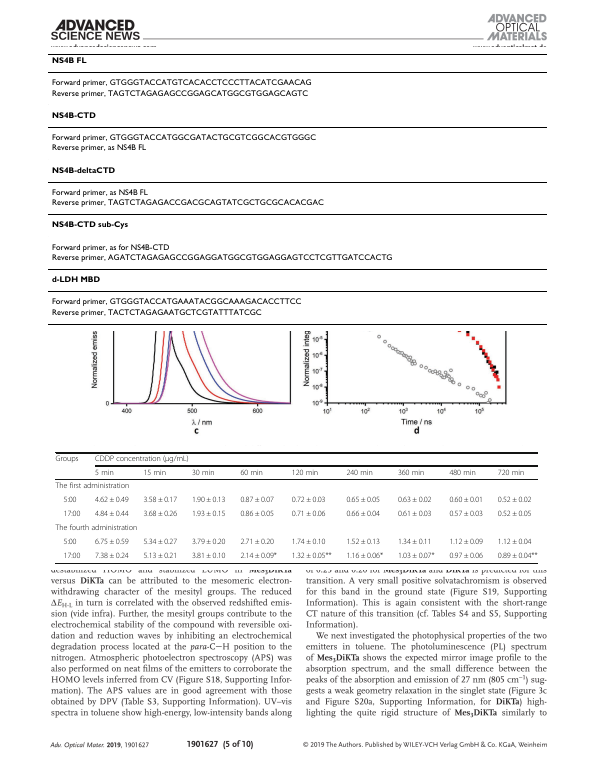borderless: (47, 52, 547, 324), (54, 451, 538, 563)
cell: (50, 253, 393, 263), (50, 198, 324, 208), (50, 133, 317, 143), (50, 89, 309, 99), (50, 79, 312, 88), (50, 298, 302, 307), (50, 308, 262, 318), (50, 243, 170, 253), (50, 188, 148, 198), (50, 144, 147, 153), (94, 455, 190, 464), (55, 523, 138, 533), (55, 481, 130, 491), (50, 221, 129, 230), (50, 166, 116, 176), (50, 111, 96, 121), (50, 276, 100, 285), (291, 551, 332, 561), (497, 551, 538, 561), (239, 551, 278, 561), (345, 551, 384, 561), (397, 551, 435, 561), (94, 495, 130, 505), (142, 495, 178, 505), (239, 495, 275, 505), (345, 495, 381, 505), (448, 495, 484, 505), (94, 509, 130, 519), (142, 509, 178, 519), (239, 509, 275, 519), (345, 509, 381, 519), (448, 509, 484, 519), (94, 537, 130, 547), (142, 537, 178, 547), (239, 537, 275, 547), (345, 537, 381, 547), (448, 537, 484, 547), (94, 551, 130, 561), (142, 551, 178, 561), (448, 551, 484, 561), (191, 495, 226, 505), (291, 495, 326, 505), (397, 495, 432, 505), (497, 495, 532, 505), (191, 509, 226, 519), (291, 509, 326, 519), (397, 509, 432, 519), (497, 509, 532, 519), (191, 537, 226, 547), (291, 537, 326, 547), (397, 537, 432, 547), (497, 537, 532, 547), (191, 551, 226, 561), (50, 57, 87, 66), (345, 468, 374, 477), (448, 468, 477, 477), (291, 468, 319, 477), (397, 468, 425, 477), (497, 468, 525, 477), (142, 468, 167, 477), (239, 468, 264, 477), (55, 455, 79, 464), (191, 468, 215, 477), (62, 509, 81, 519), (62, 551, 81, 561), (94, 468, 115, 477), (62, 495, 77, 505), (62, 537, 77, 547)
